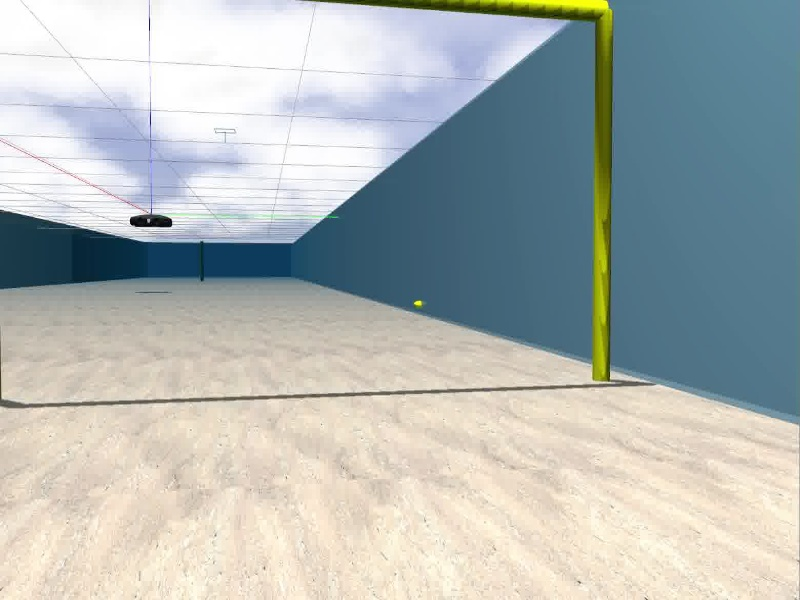gate: (1, 1, 611, 408)
